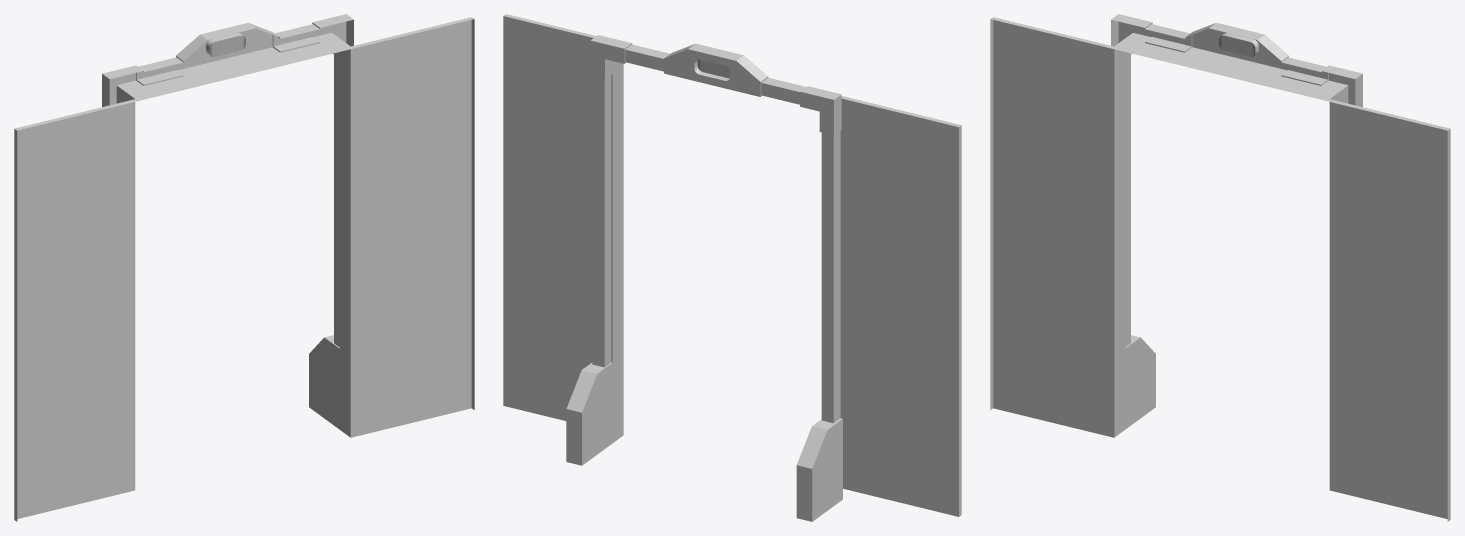
The model's file is door_frame01.fbx.
3 views of the same model, side by side, from view 1: azimuth 30°, elevation 25°; view 2: azimuth 150°, elevation 25°; view 3: azimuth 330°, elevation 25° (orthographic).
Visible parts, largest first — view 1: door_frame01; view 2: door_frame01; view 3: door_frame01.
Boxes of the visible parts, <box> form: door_frame01: <box>14,14,474,521</box>; door_frame01: <box>503,14,961,521</box>; door_frame01: <box>990,14,1450,521</box>.
Size of the model in its own units: 189 by 166 by 32.
